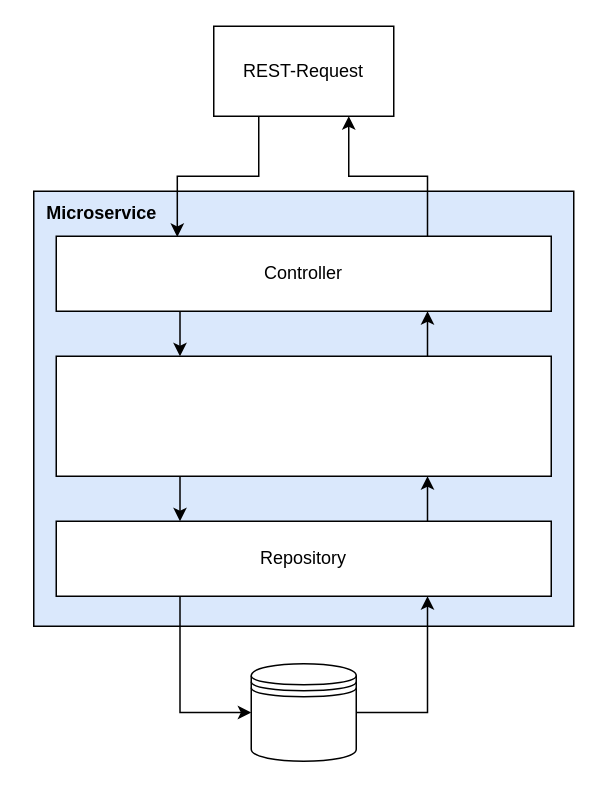
Some shapes in this 600 by 788 pixel diagram are drawn without their labels. Each missing label, with the box of its shape:
Postgres Database: (250, 662, 356, 761)
Service: (55, 355, 551, 476)
